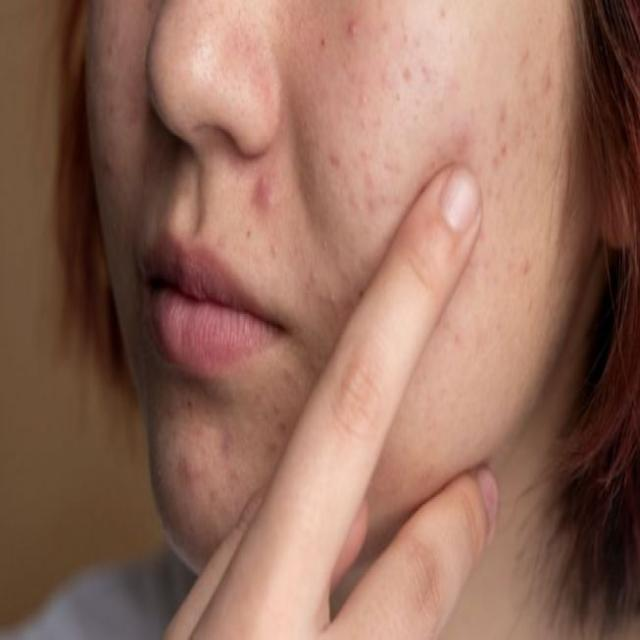Oily-Skin: (152, 3, 266, 139)
